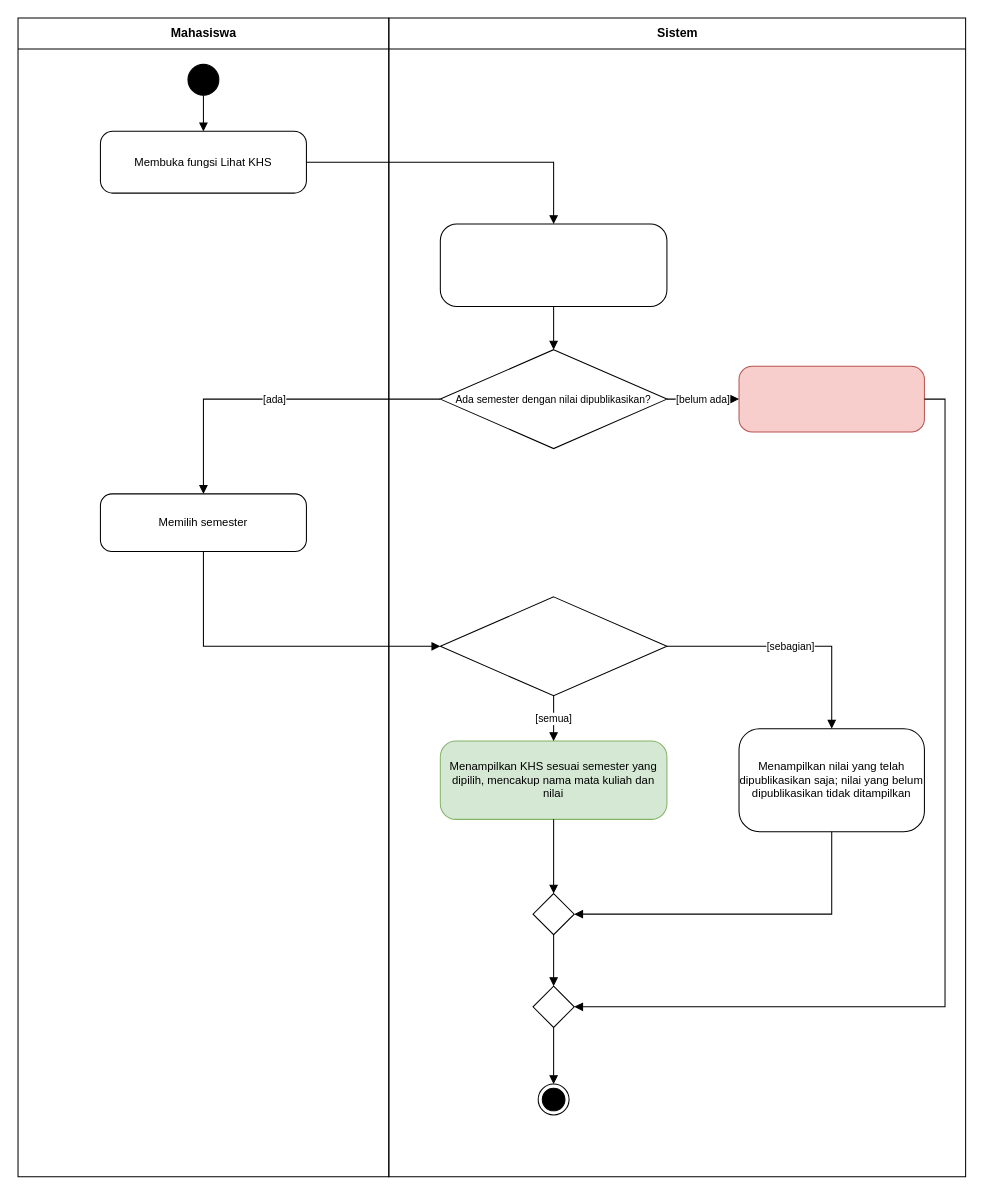
Image size: 984x1195. Some labels were removed from this diagram. The shapes that lost their labels are listed below. From the top down, each one's centre as x and y in pixels, then its label:
At pixel 553 264: "Menampilkan daftar semester yang telah memiliki nilai yang dipublikasikan".
At pixel 831 398: "Menampilkan pesan KHS belum tersedia".
At pixel 553 646: "Semua nilai semester sudah dipublikasikan?".
